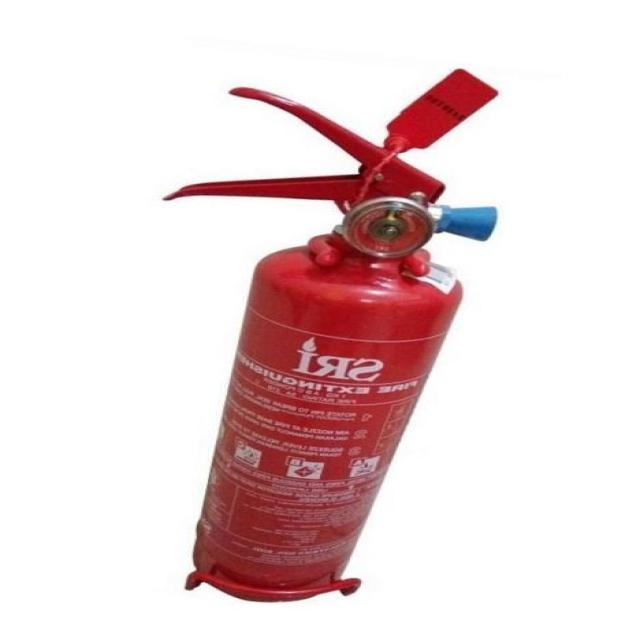fire_extinguisher: (149, 61, 512, 608)
